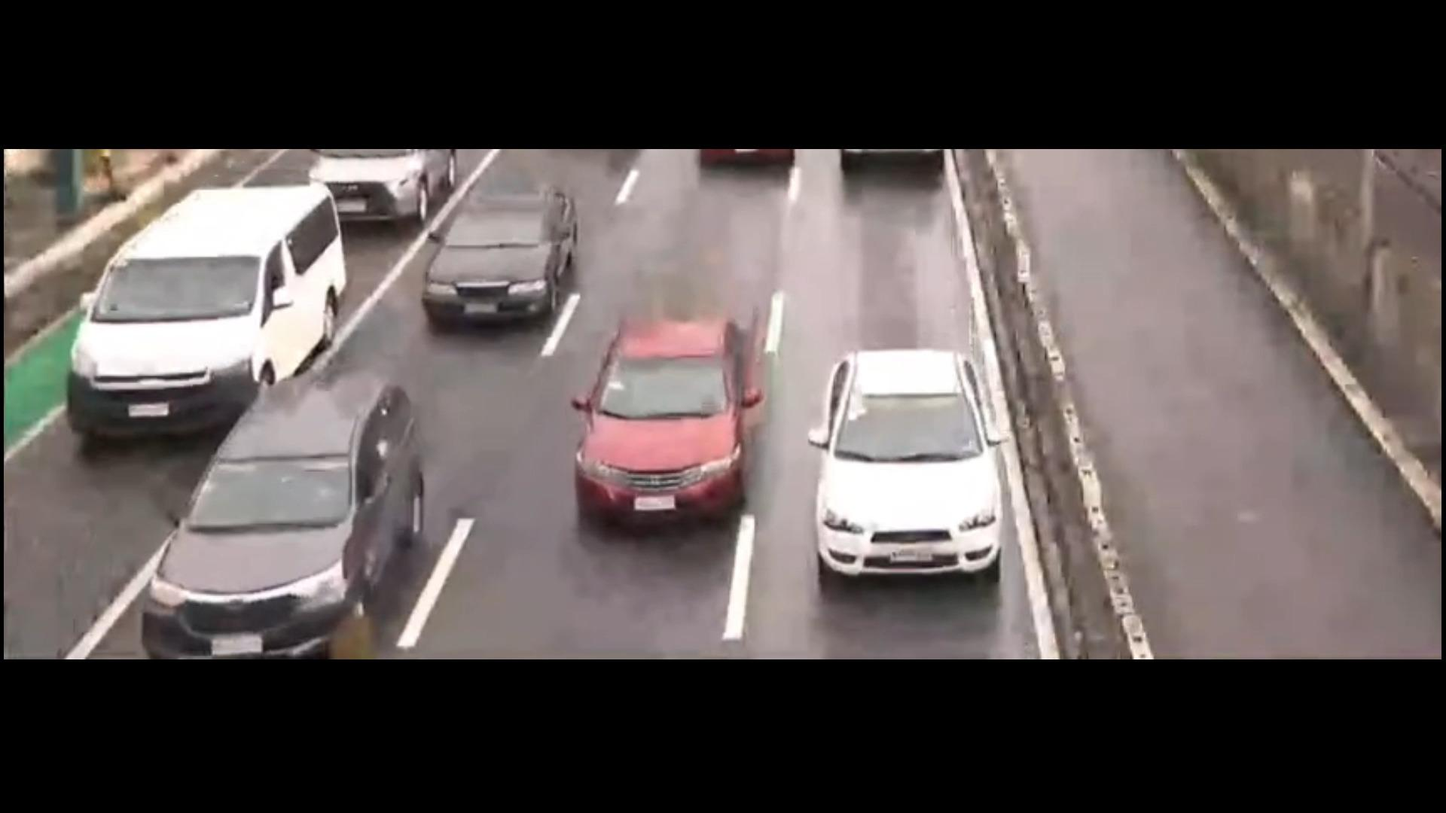SUV: (137, 378, 429, 655)
Sedan: (819, 346, 1005, 587), (582, 305, 747, 516), (424, 173, 574, 324), (311, 145, 458, 228)
Van: (70, 186, 345, 440)
